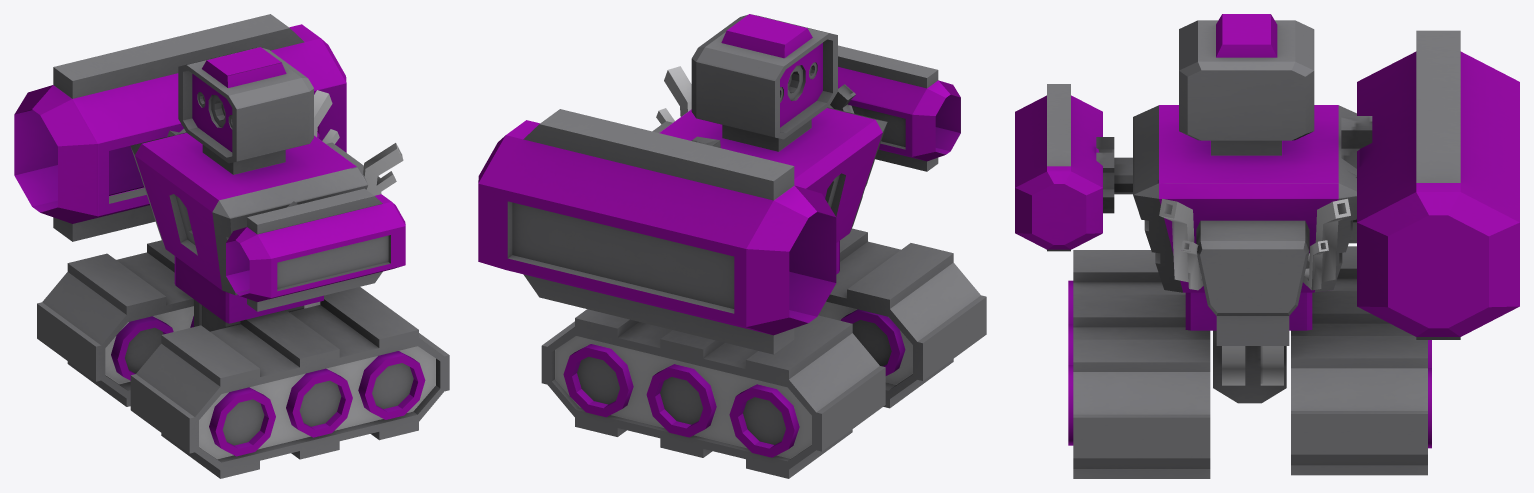
The model's file is Enemy2_Attack7.obj.
3 views of the same model, side by side, from view 1: azimuth 30°, elevation 25°; view 2: azimuth 150°, elevation 25°; view 3: azimuth 270°, elevation 25° (orthographic). The views are drawn at different scales.
Parts seen in each view (by area): view 1: Object006, Object007, Object011, Object010; view 2: Object006, Object011, Object007, Object010; view 3: Object006, Object011, Object007, Object010, Object008, Object009.
Part boxes in pixels (x1,y1,x2,y2): Object006: (37,188,449,478); Object007: (130,47,367,331); Object011: (14,14,346,241); Object010: (304,90,403,308); Object006: (541,45,986,478); Object011: (478,109,836,354); Object007: (659,14,887,274); Object010: (652,66,691,132); Object006: (1015,84,1431,478); Object011: (1357,30,1519,339); Object007: (1133,14,1356,403); Object010: (1159,198,1350,385); Object008: (1096,137,1132,213); Object009: (1341,116,1372,243).
Size of the model in its own units: 97.81 by 109 by 126.
